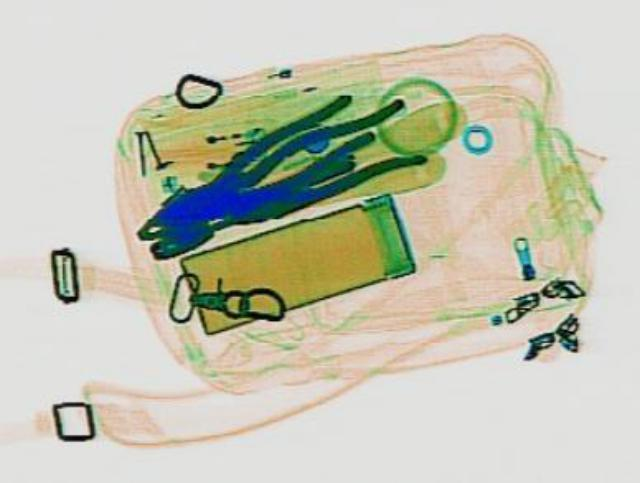Pliers: (131, 94, 443, 245), (112, 89, 390, 252)
